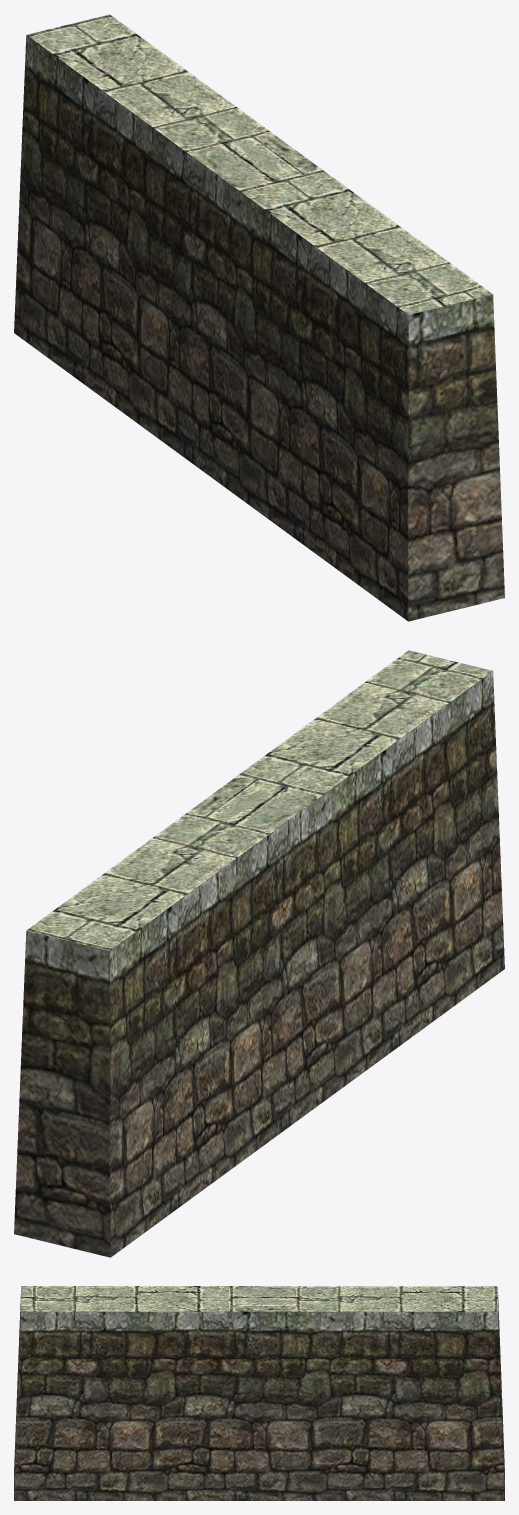
3 views of the same model, one above another, from view 1: azimuth 30°, elevation 25°; view 2: azimuth 150°, elevation 25°; view 3: azimuth 270°, elevation 25° (orthographic). The views are drawn at different scales.
Visible parts, largest first — view 1: tn5_wl5-col; view 2: tn5_wl5-col; view 3: tn5_wl5-col.
Boxes of the visible parts, bbox=[...] form: tn5_wl5-col: bbox=[14, 14, 504, 621]; tn5_wl5-col: bbox=[14, 650, 504, 1257]; tn5_wl5-col: bbox=[14, 1286, 504, 1500].
Size of the model in its own units: 0.9472 by 2.82 by 6.69.
Materials: 2 (2 with a texture image).
